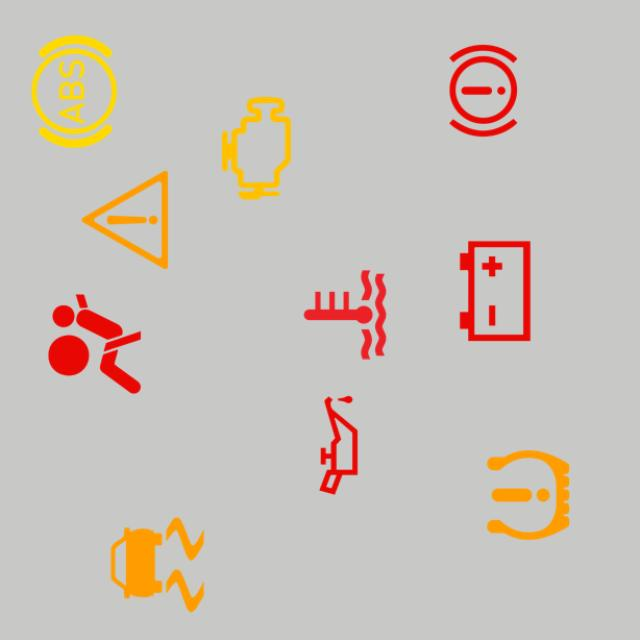Anti Lock Braking System: (12, 30, 136, 153)
Braking System Issue: (422, 29, 545, 152)
Charging System Issue: (434, 230, 556, 352)
Check Engine: (195, 86, 318, 210)
Electronic Stability Problem -ESP-: (96, 504, 219, 626)
Engine Overheating Warning Light: (284, 254, 406, 376)
Low Engine Oil Warning Light: (278, 384, 400, 506)
Low Tire Pressure Warning Light: (467, 434, 590, 556)
Master warning light: (64, 158, 186, 282)
SRS-Airbag: (34, 282, 156, 406)
